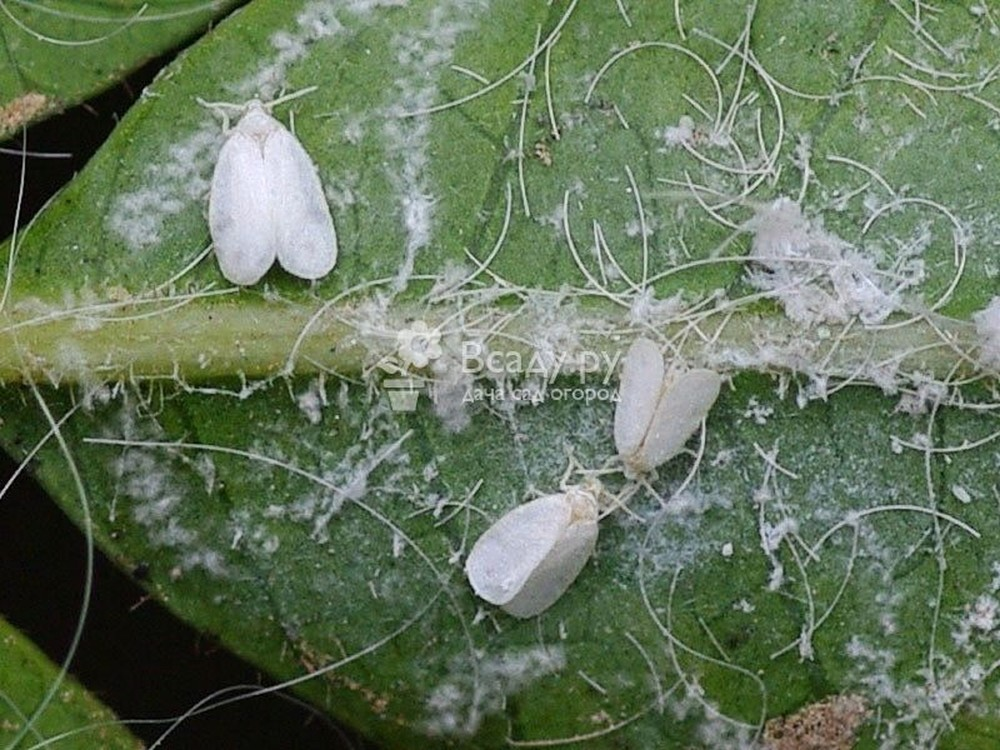Mosca Blanca: (178, 85, 369, 290), (446, 460, 635, 624), (596, 327, 722, 504)
